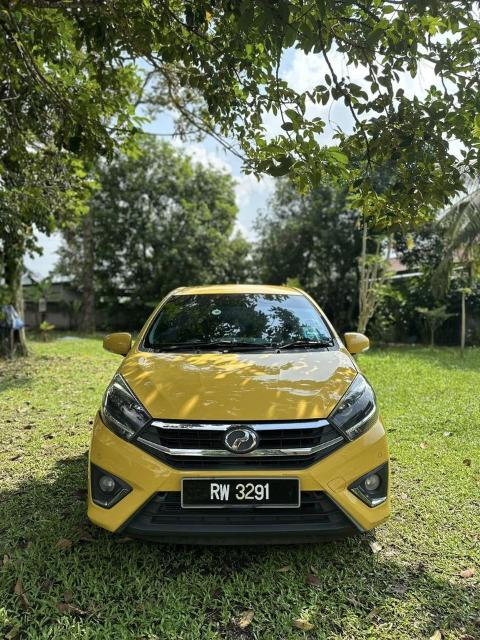License_Plate: (182, 477, 293, 505)
car: (66, 268, 392, 541)
